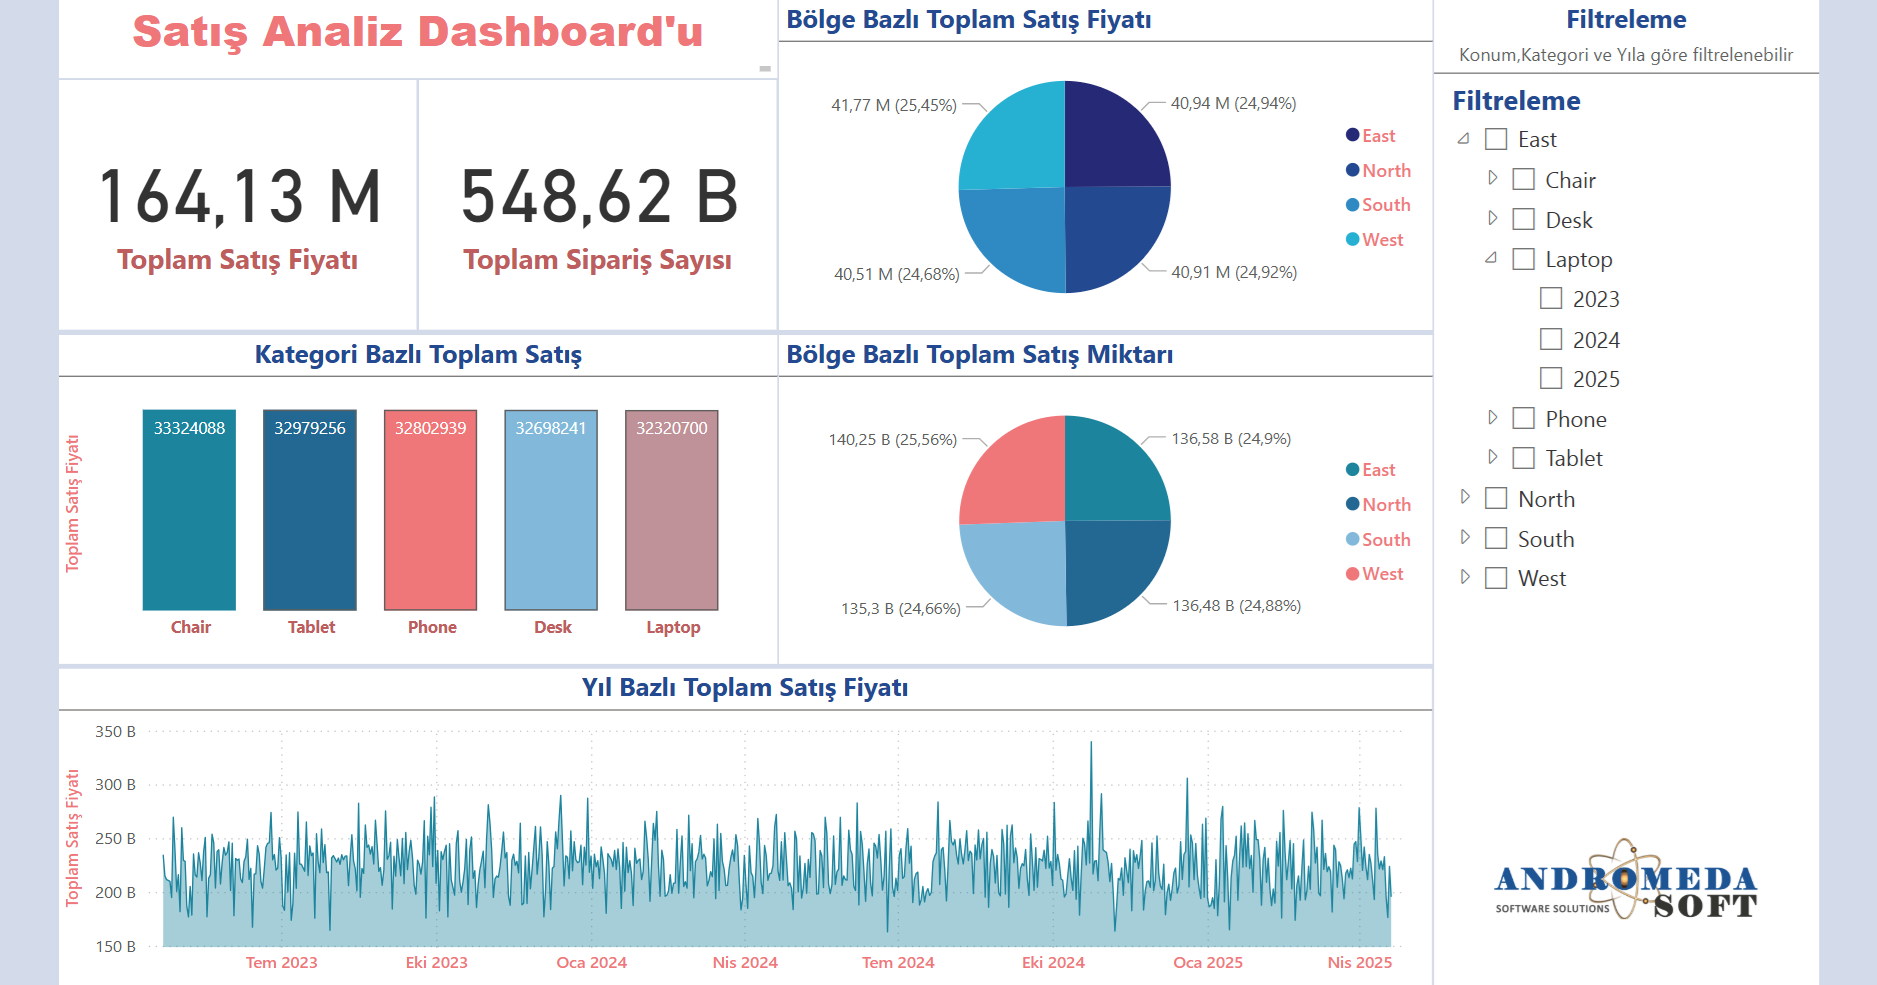

The page's visual inventory and layout, read from the dashboard file:
{"tool":"powerbi","page":{"name":"1. sayfa","canvas":[1280,720],"ordinal":0},"visuals":[{"type":"slicer","title":"Filtreleme","fields":{"Values":["Sorgu2.Bölge","Sorgu2.Kategori","Sorgu2.Satış Tarihi.Varyasyon.Tarih Hiyerarşisi.Yıl"]},"box":[1000.4,0,279.6,716.7],"z":0},{"type":"textbox","title":"Satış Analiz Dashboard''u","box":[0,0,522.2,57],"z":1000},{"type":"card","fields":{"Values":["Sum(Sorgu2.Total Sales)"]},"box":[0,58.3,260,181.5],"z":2000},{"type":"card","fields":{"Values":["Sum(Sorgu2.Total Quantity)"]},"box":[262,58.3,260.2,181.5],"z":3000},{"type":"clusteredColumnChart","title":"Kategori Bazlı Toplam Satış","fields":{"Category":["Sorgu2.Kategori"],"Y":["Sum(Sorgu2.Satış Fiyatı)"]},"box":[0,243.6,522.2,239],"z":4000},{"type":"pieChart","title":"Bölge Bazlı Toplam Satış Fiyatı","fields":{"Y":["Sum(Sorgu2.Satış Fiyatı)"],"Series":["Sorgu2.Bölge"]},"box":[524.1,0,475,239.8],"z":5000},{"type":"pieChart","title":"Bölge Bazlı Toplam Satış Miktarı","fields":{"Series":["Sorgu2.Bölge"],"Y":["Sum(Sorgu2.Satış Miktarı)"]},"box":[524.1,243.5,475,238.9],"z":6000},{"type":"lineChart","title":"Yıl Bazlı Toplam Satış Fiyatı","fields":{"Y":["Sum(Sorgu2.Satış Fiyatı)"],"Category":["Sorgu2.Satış Tarihi"]},"box":[0,486.1,998.1,230.6],"z":7000},{"type":"image","box":[1025.9,601.9,227.8,77.8],"z":8000}]}

Visuals, with their boxes on the page's 1280x720 design canvas (x1, y1, x2, y2). These are canvas units, not pixel positions in the 1877x985 screenshot, which may show the page scaled, cropped or inside an application window:
"Filtreleme" slicer: BBox(1000, 0, 1280, 717)
"Satış Analiz Dashboard''u" textbox: BBox(0, 0, 522, 57)
card - Sum(Sorgu2.Total Sales): BBox(0, 58, 260, 240)
card - Sum(Sorgu2.Total Quantity): BBox(262, 58, 522, 240)
"Kategori Bazlı Toplam Satış" clusteredColumnChart: BBox(0, 244, 522, 483)
"Bölge Bazlı Toplam Satış Fiyatı" pieChart: BBox(524, 0, 999, 240)
"Bölge Bazlı Toplam Satış Miktarı" pieChart: BBox(524, 244, 999, 482)
"Yıl Bazlı Toplam Satış Fiyatı" lineChart: BBox(0, 486, 998, 717)
image: BBox(1026, 602, 1254, 680)
